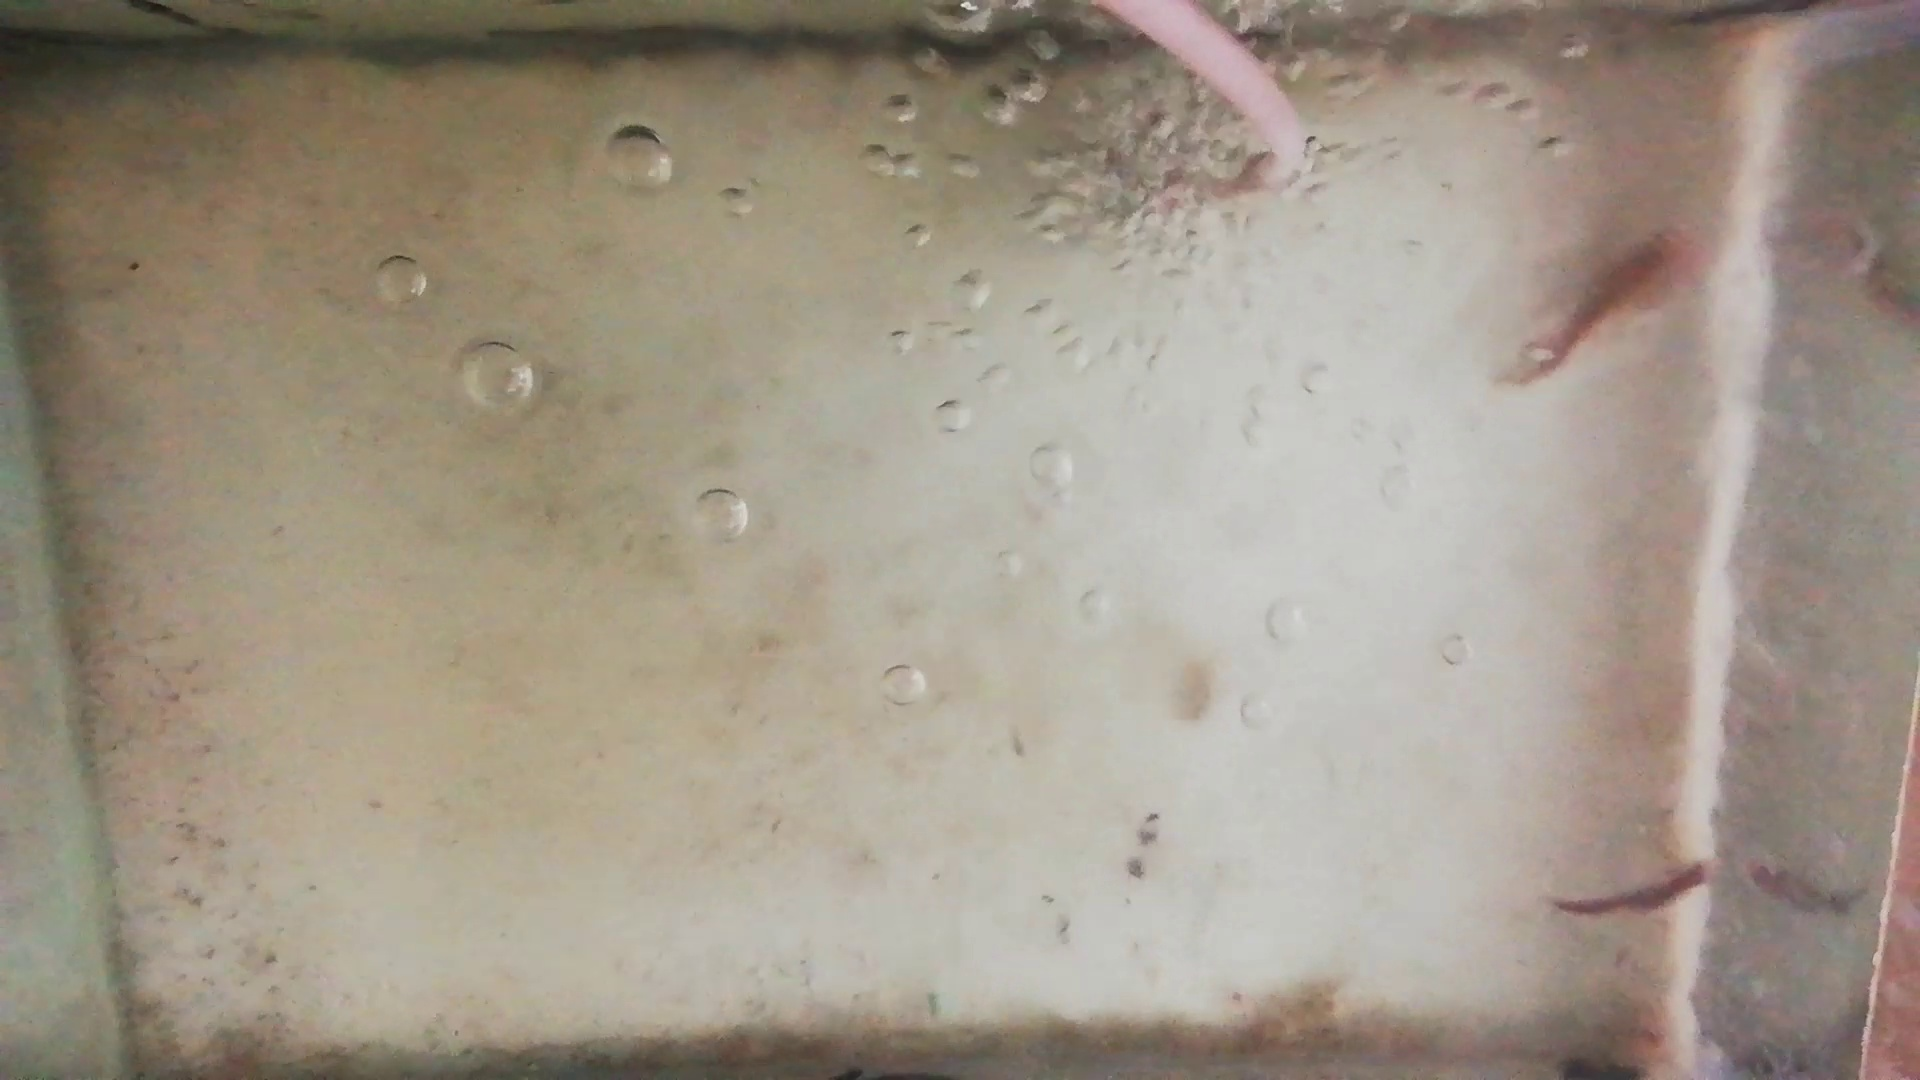fish: (1498, 229, 1696, 386), (1549, 858, 1716, 913)
